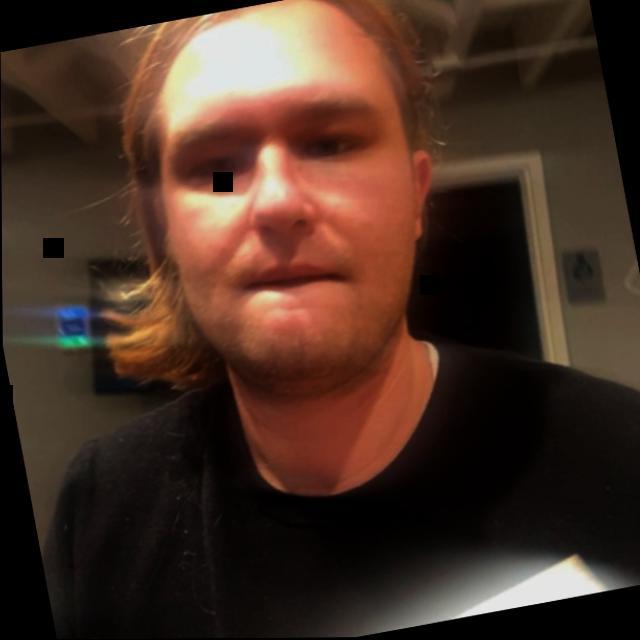NO-Mask: (57, 0, 501, 504)
